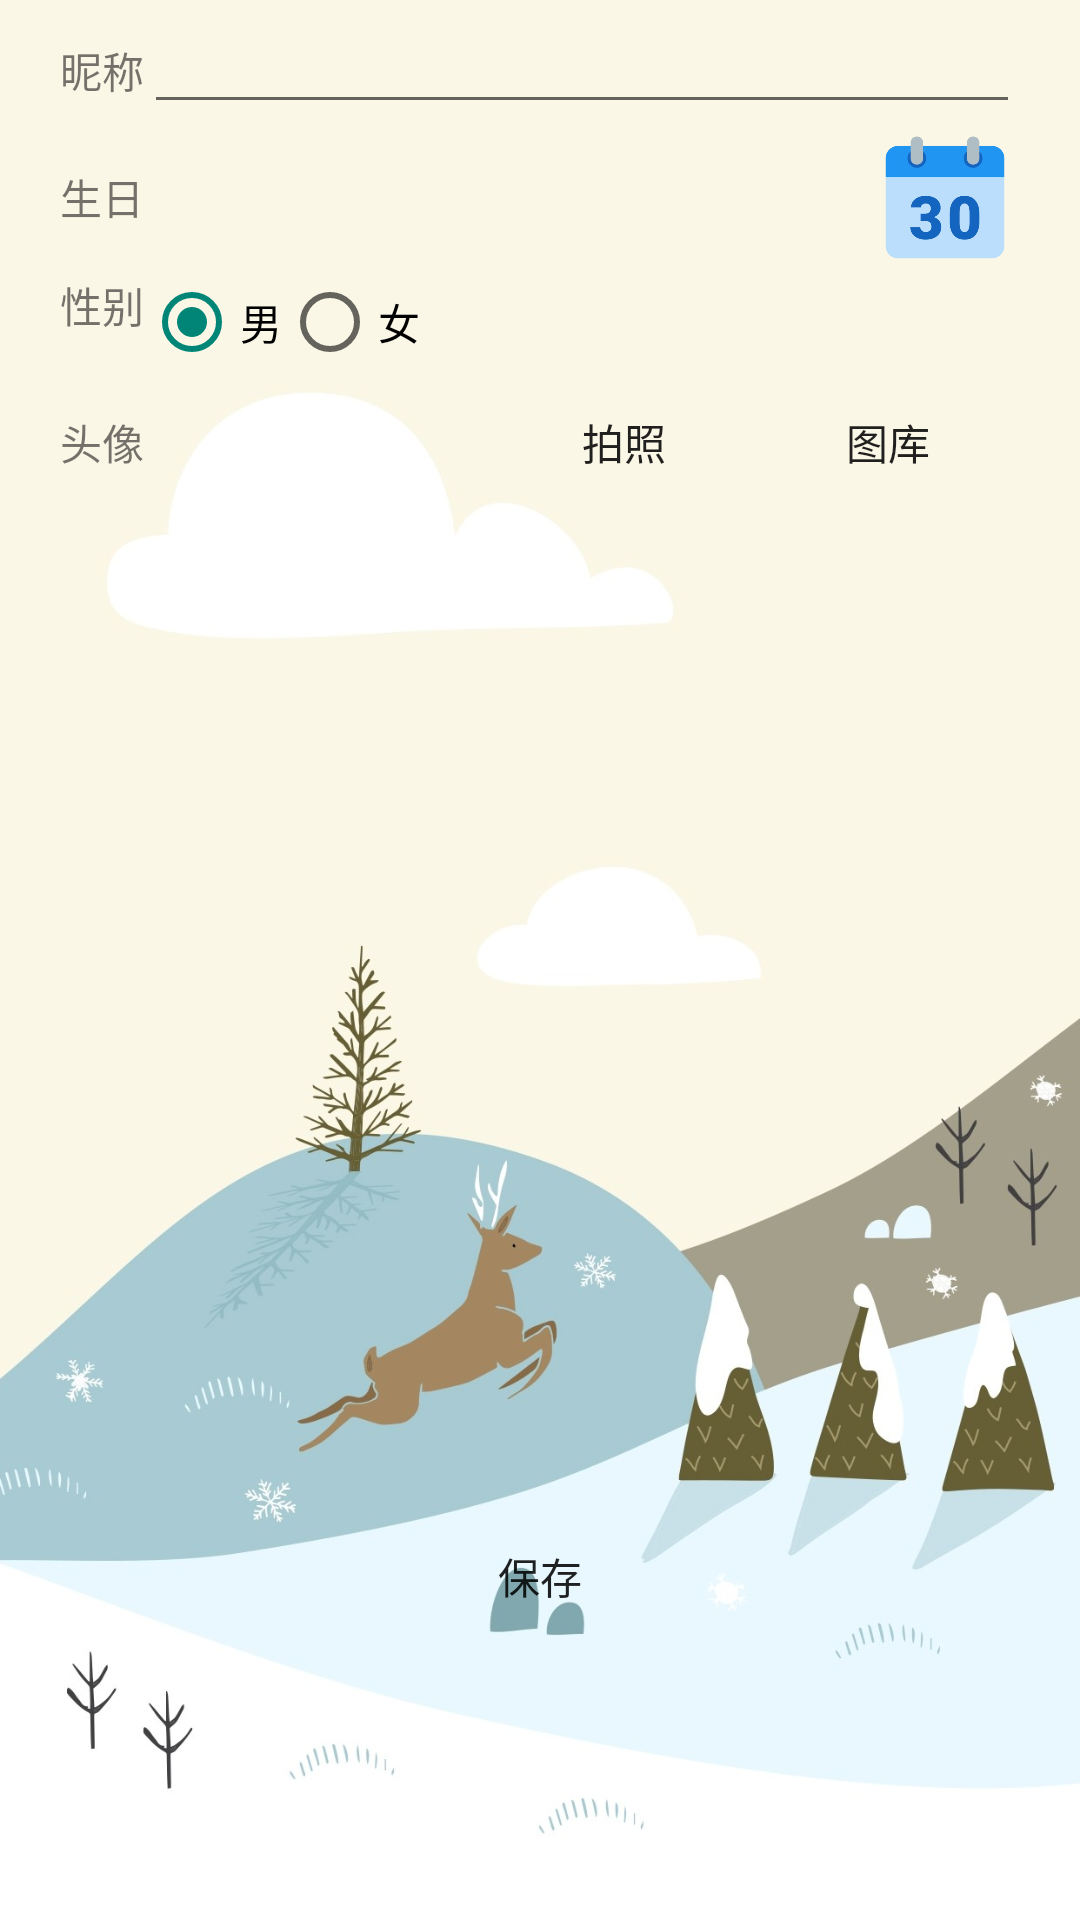

Icons on this 1080w x 1920h Android screen, each with the point to tap as [x,y]:
calendar: [945,197]
